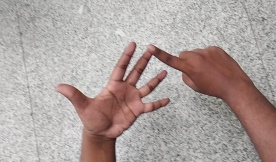u: (53, 35, 198, 136)
